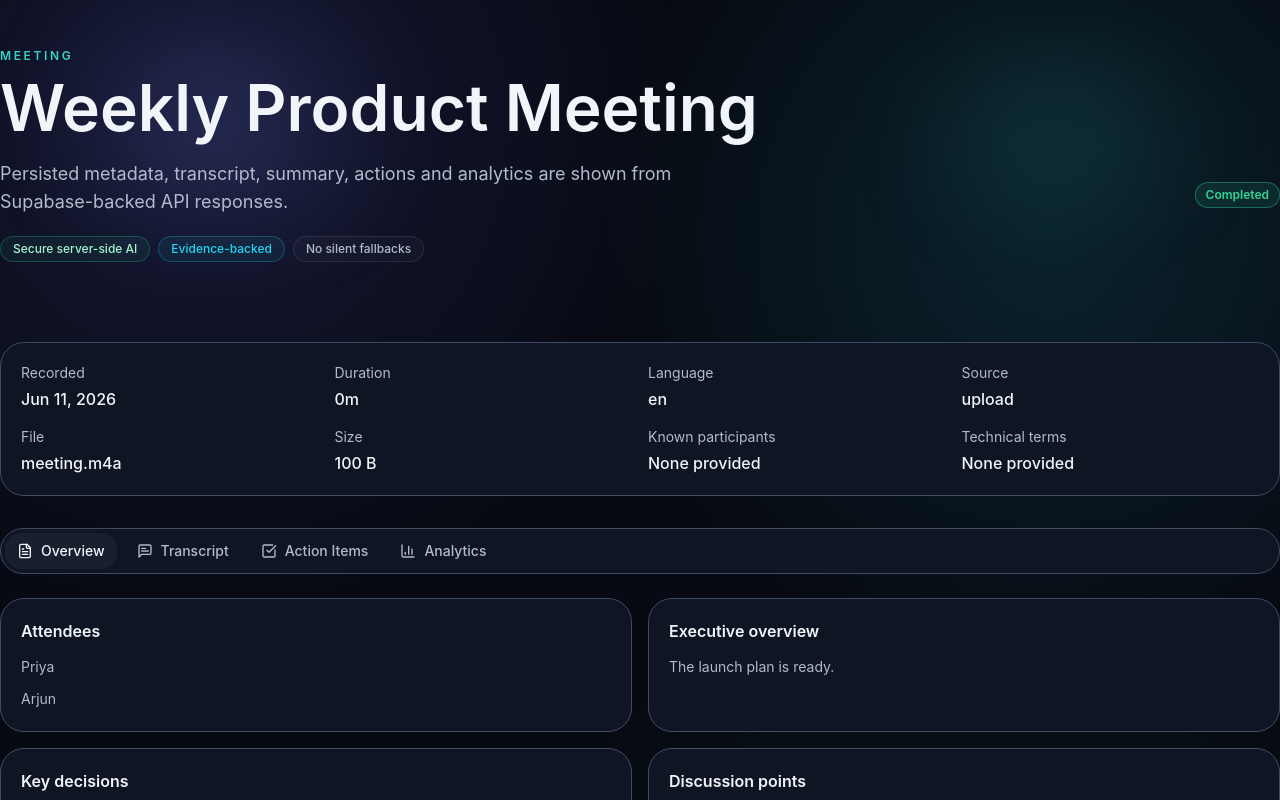
Scenario: Phase 2 frontend integration › renders persisted Gemini summary, topics, action items and evidence jump
The image size is (1280, 800).
Expected: the text "The launch plan is ready." is shown, [669, 658, 834, 675]
What coordinates should you click on to do the following:
click the tab "Action Items"
I would click on:
 (315, 551)
Its box is [249, 533, 380, 569].
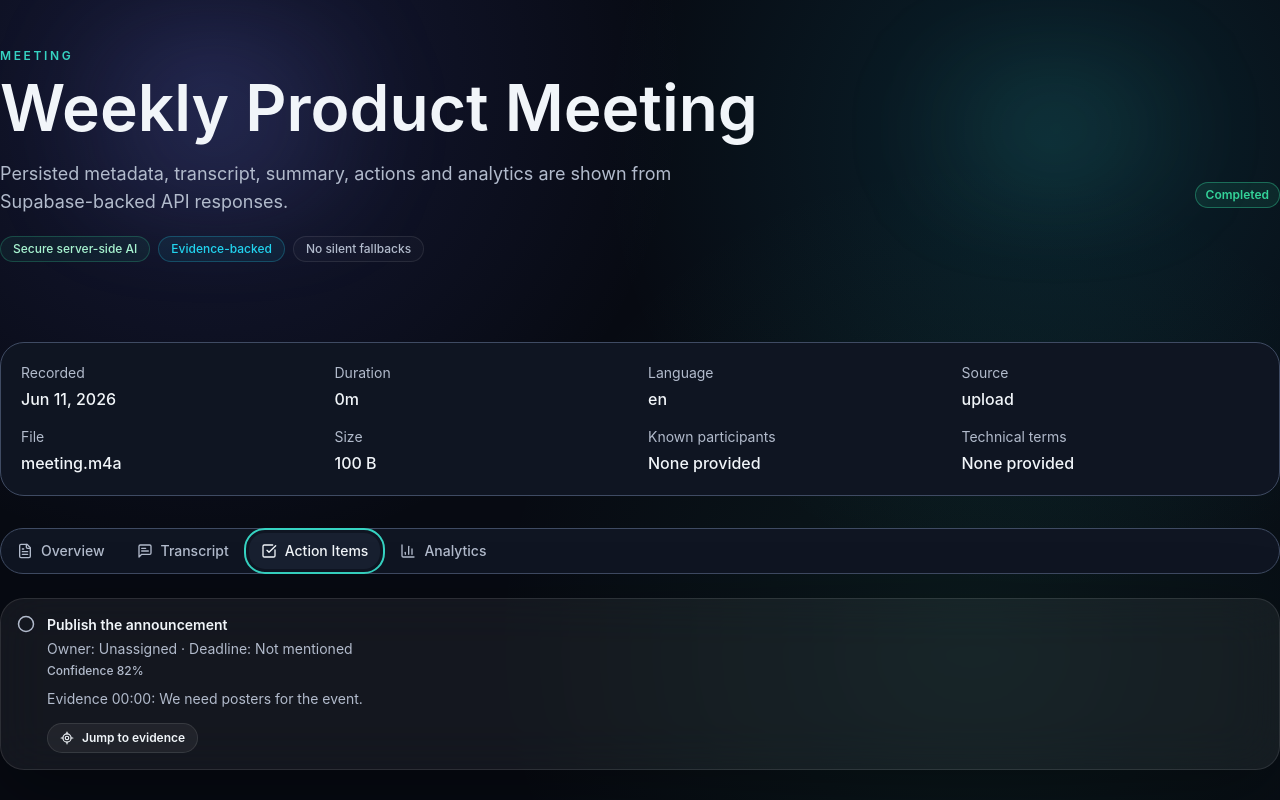
Expected: the text "Publish the announcement" is shown, [47, 616, 228, 633]
Now the text "Owner: Unassigned · Deadline: Not mentioned" is shown, box [47, 640, 353, 657]
What coordinates should you click on to do the following:
click the button named "complete action item"
I would click on:
 (26, 624)
Its box is [17, 615, 35, 633].
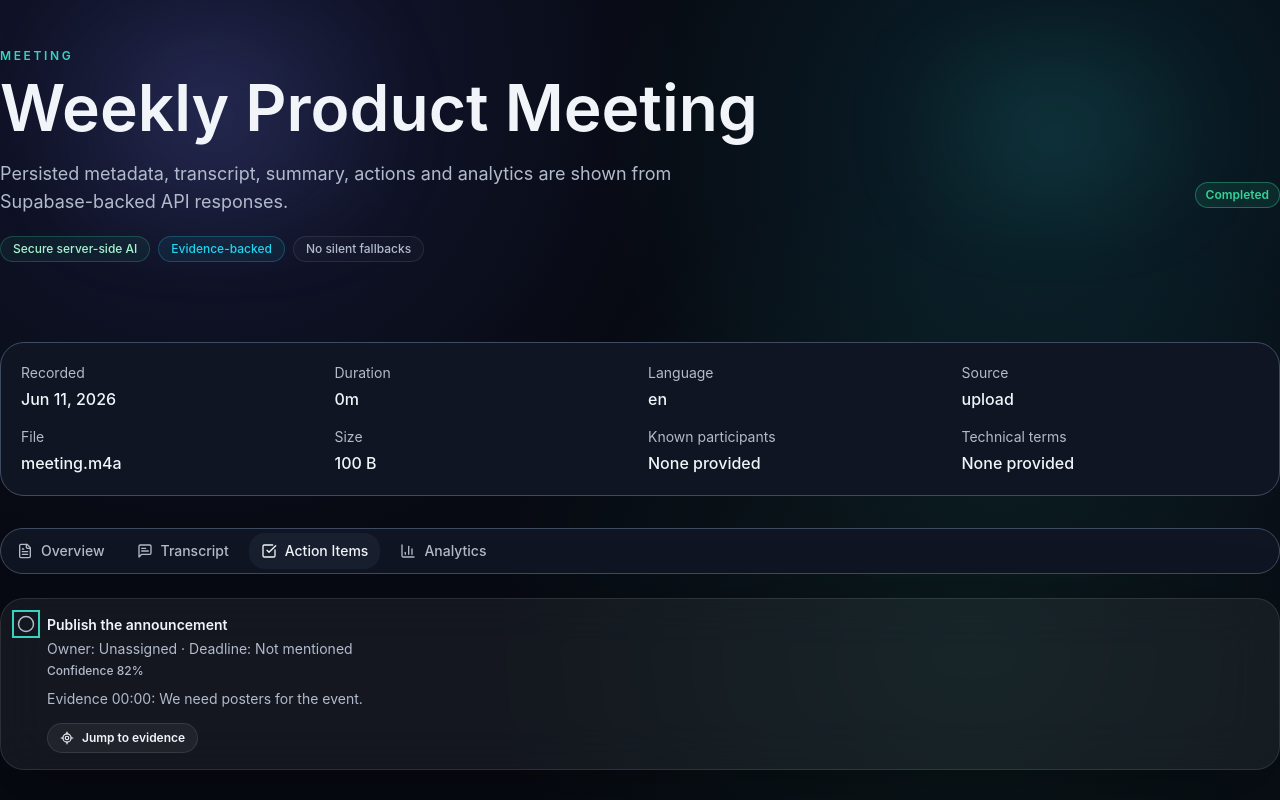
What coordinates should you click on to do the following:
click the button "Jump to evidence"
I would click on:
 (123, 738)
Its box is [47, 723, 198, 753].
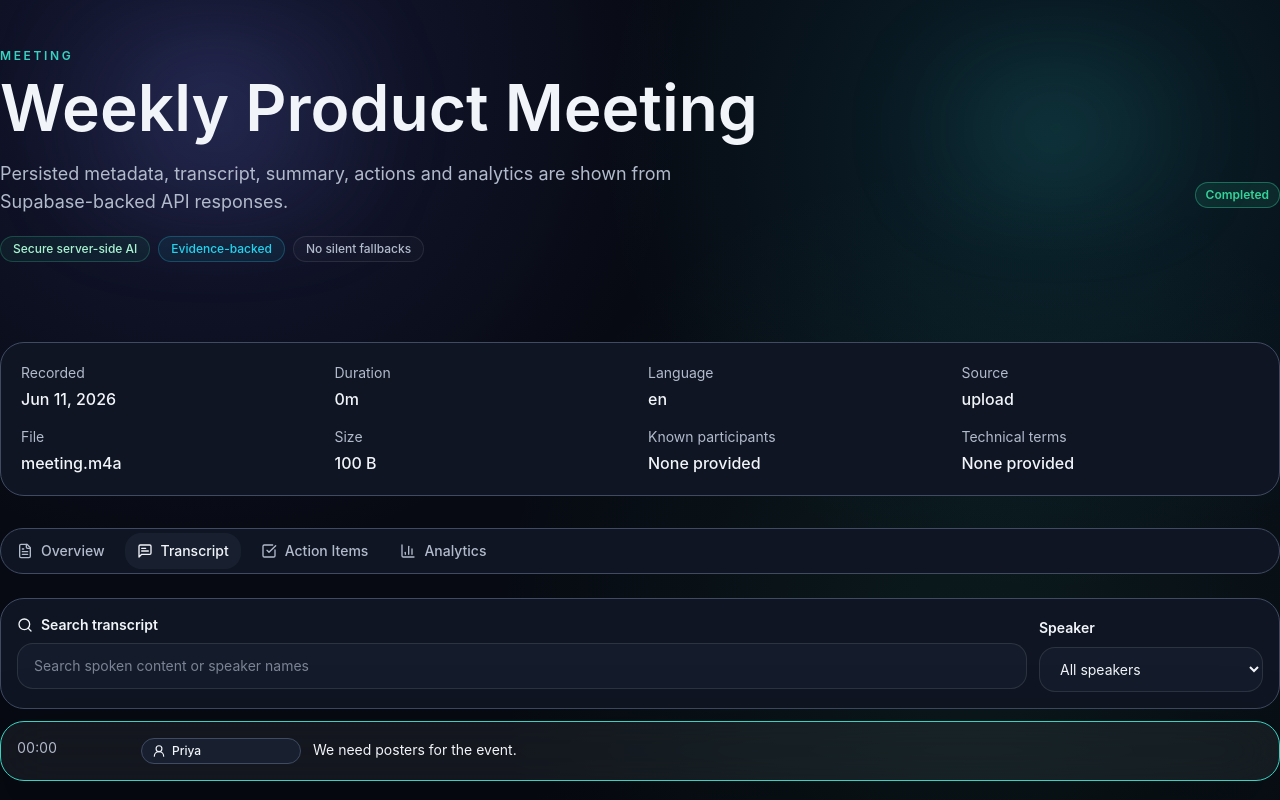
Now the text "We need posters for the event." is shown, box [313, 741, 517, 758]
